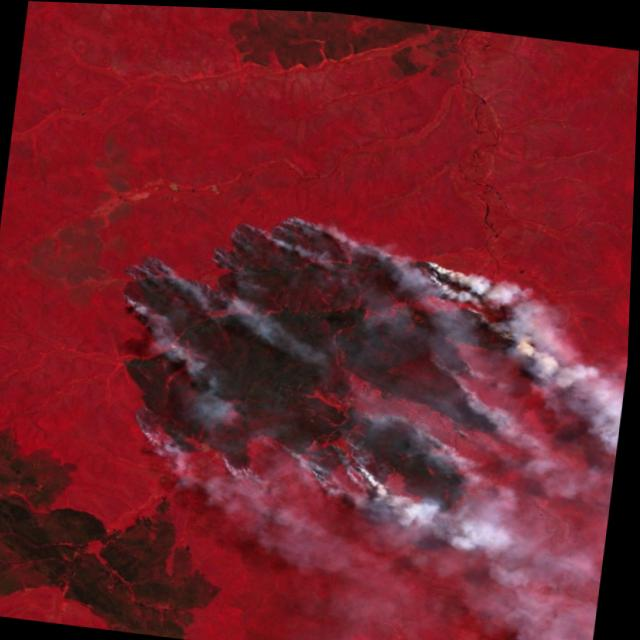fire: (87, 188, 561, 531)
